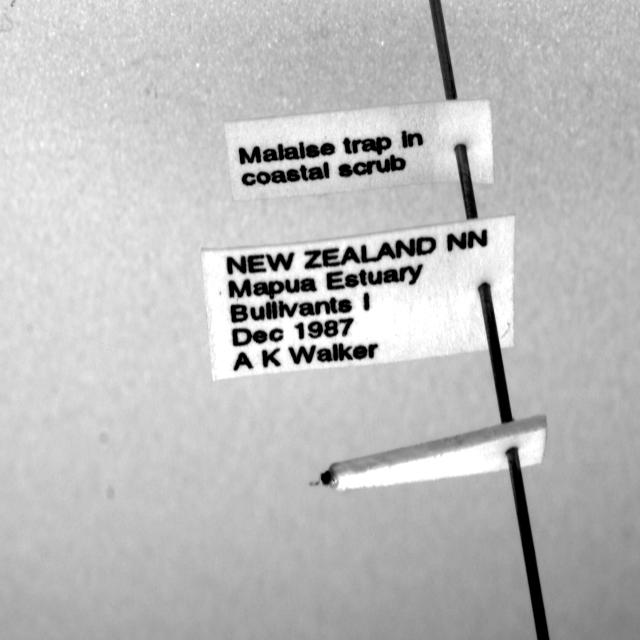typed_label: (202, 216, 515, 379), (225, 99, 494, 201)
